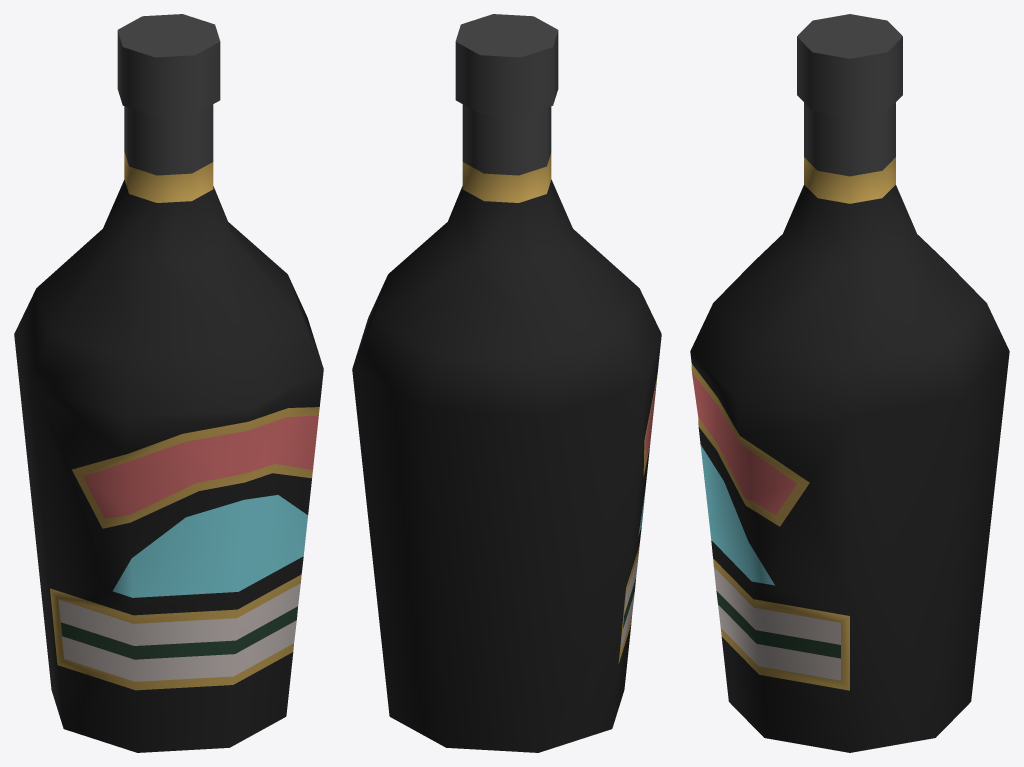
The model's file is prop_056.fbx.
3 views of the same model, side by side, from view 1: azimuth 30°, elevation 25°; view 2: azimuth 150°, elevation 25°; view 3: azimuth 270°, elevation 25° (orthographic).
Parts seen in each view (by area): view 1: prop_056; view 2: prop_056; view 3: prop_056.
Boxes of the visible parts, x1,y1,x2,y2 form: prop_056: [14, 14, 323, 752]; prop_056: [352, 14, 661, 752]; prop_056: [690, 14, 1009, 752].
Size of the model in its own units: 17.42 by 17.42 by 40.03.
